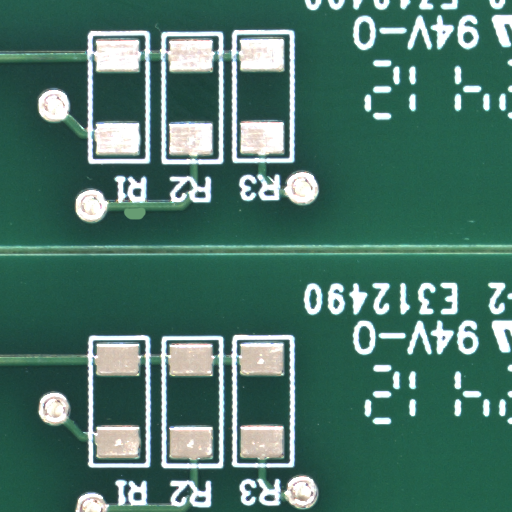Spur: (134, 214, 159, 227)
